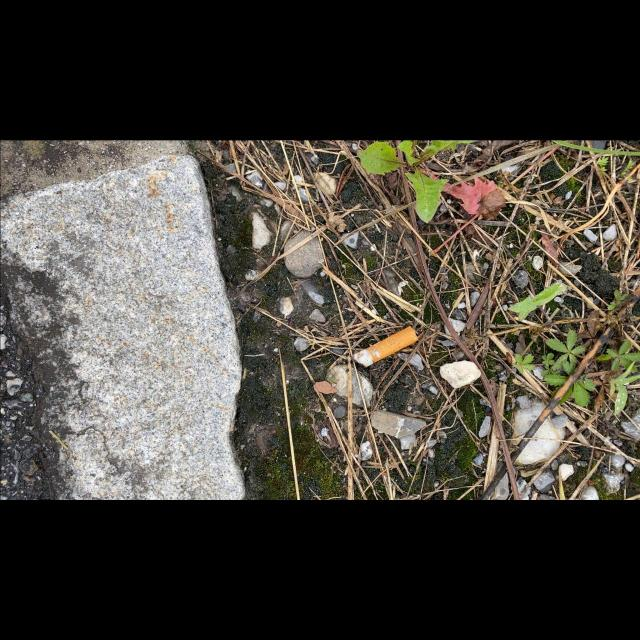cigarette: (351, 325, 418, 367)
